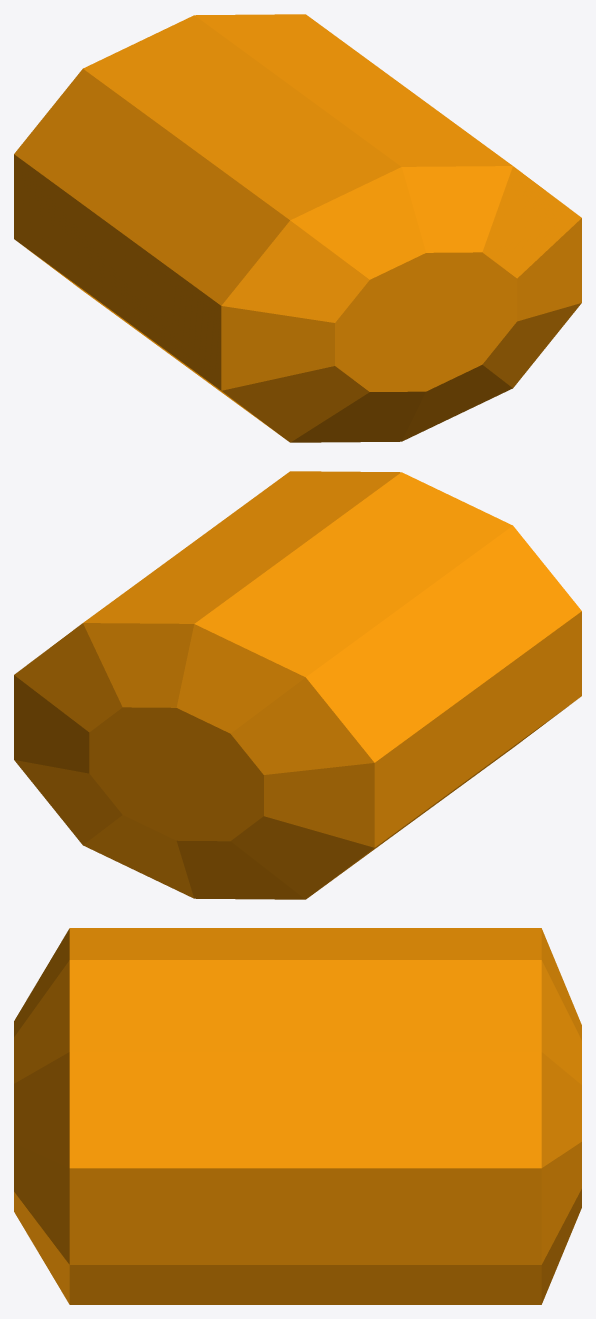
The picture shows the model from 3 angles, top to bottom: view 1: azimuth 30°, elevation 25°; view 2: azimuth 150°, elevation 25°; view 3: azimuth 270°, elevation 25°; orthographic projection. The views are drawn at different scales.
Visible parts, largest first — view 1: T 1; view 2: T 1; view 3: T 1.
Boxes of the visible parts, x1=… form: T 1: x1=14, y1=14, x2=581, y2=442; T 1: x1=14, y1=471, x2=581, y2=899; T 1: x1=14, y1=928, x2=581, y2=1304.
Bounding box in the file's own units: 91.68 × 66.77 × 110.
